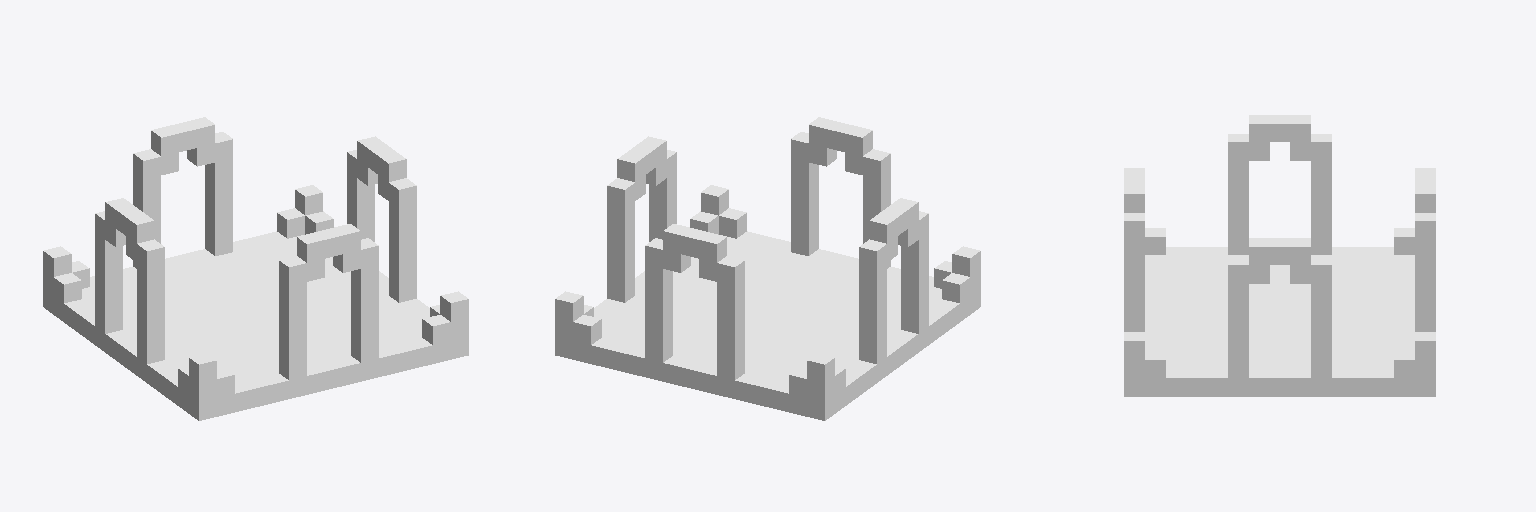
Rendered from Hub1.obj.
3 views of the same model, side by side, from view 1: azimuth 30°, elevation 25°; view 2: azimuth 150°, elevation 25°; view 3: azimuth 270°, elevation 25° (orthographic).
Size of the model in its own units: 15 by 8 by 15.